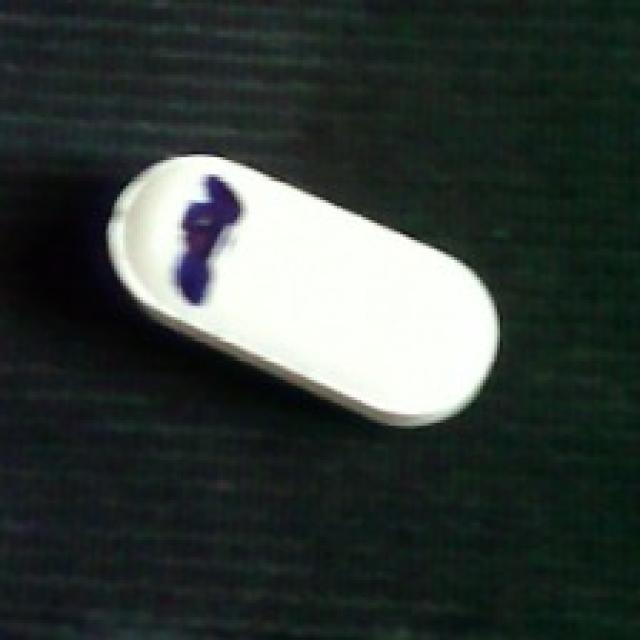defected: (94, 152, 503, 431)
